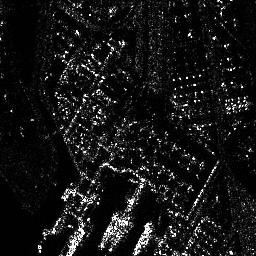ship: (98, 210, 123, 247), (108, 217, 133, 251), (132, 223, 155, 255), (64, 228, 86, 256)
